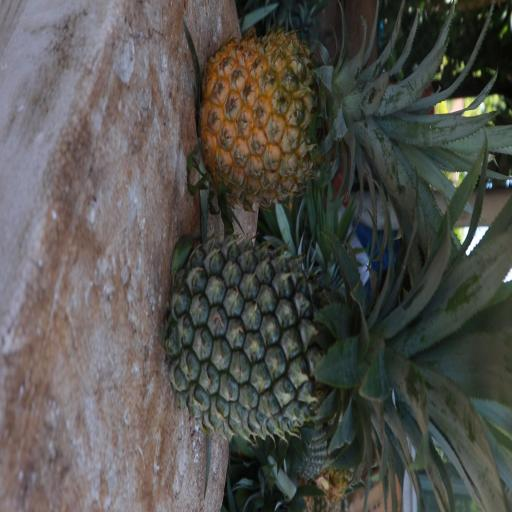Pineapple - v8 v1: (202, 37, 466, 203)
